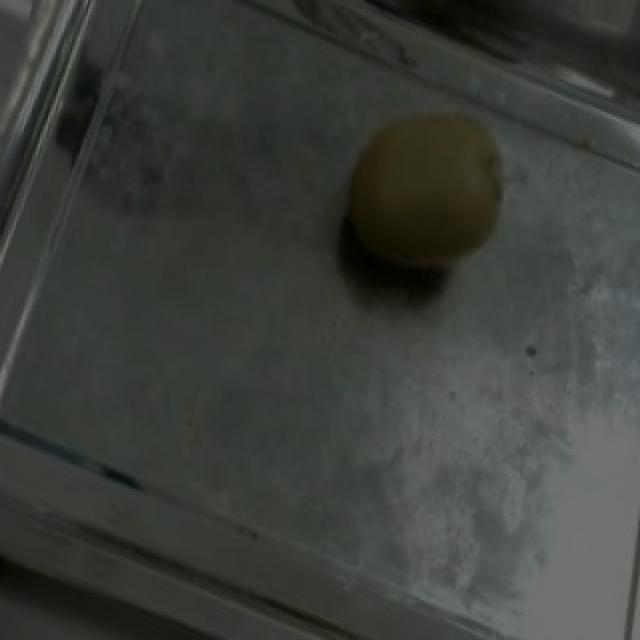Fruit: (298, 69, 546, 325)
